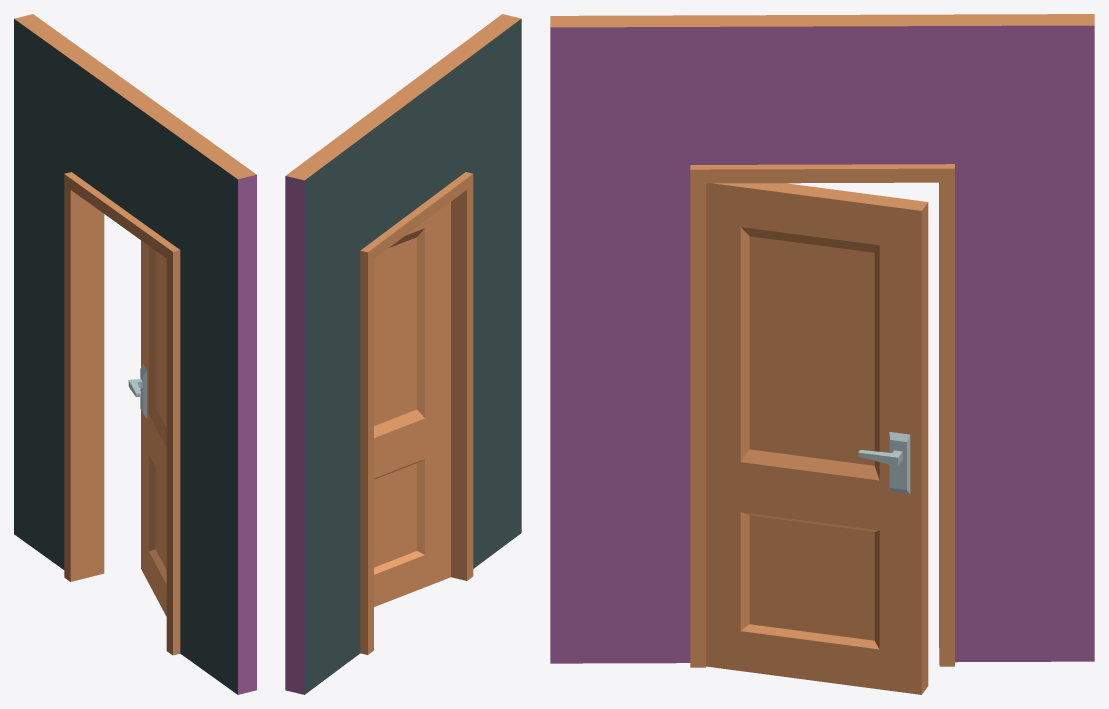
Rendered from porte7.glb.
3 views of the same model, side by side, from view 1: azimuth 30°, elevation 25°; view 2: azimuth 150°, elevation 25°; view 3: azimuth 270°, elevation 25° (orthographic). The views are drawn at different scales.
Parts seen in each view (by area): view 1: wallDoorway, door; view 2: wallDoorway, door; view 3: wallDoorway, door.
Boxes of the visible parts, <box> form: wallDoorway: <box>14,14,256,694</box>; door: <box>128,240,166,616</box>; wallDoorway: <box>285,14,521,694</box>; door: <box>374,202,450,606</box>; wallDoorway: <box>550,14,1094,667</box>; door: <box>706,183,928,694</box>.
Bounding box in the file's own units: 0.2369 × 1.29 × 1.
